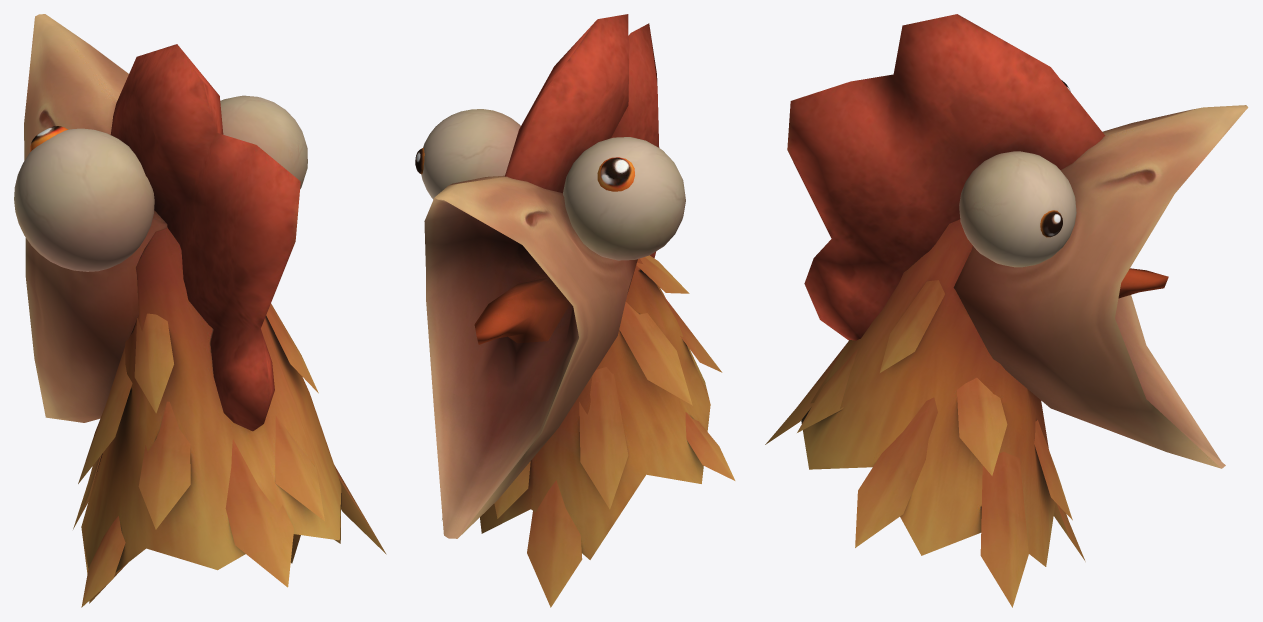
File: avatar4-head.glb
3 renders of one model, left to right at view 1: azimuth 30°, elevation 25°; view 2: azimuth 150°, elevation 25°; view 3: azimuth 270°, elevation 25°, orthographic. The views are drawn at different scales.
Parts seen in each view (by area): view 1: head; view 2: head; view 3: head.
Part boxes in pixels (x1,y1,x2,y2): head: (14, 14, 386, 607); head: (415, 14, 735, 607); head: (765, 14, 1248, 607).
Size of the model in its own units: 0.2138 by 0.4394 by 0.3466.
Materials: 1 (1 with a texture image).
